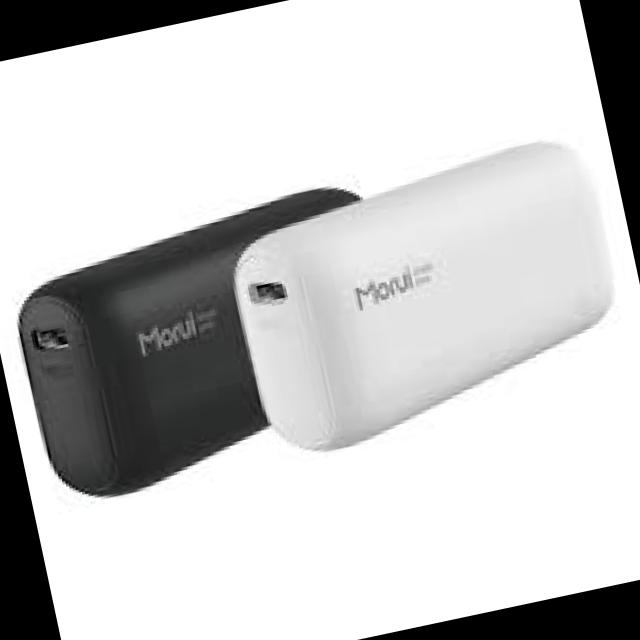power_bank: (220, 130, 634, 467), (2, 175, 410, 510)
